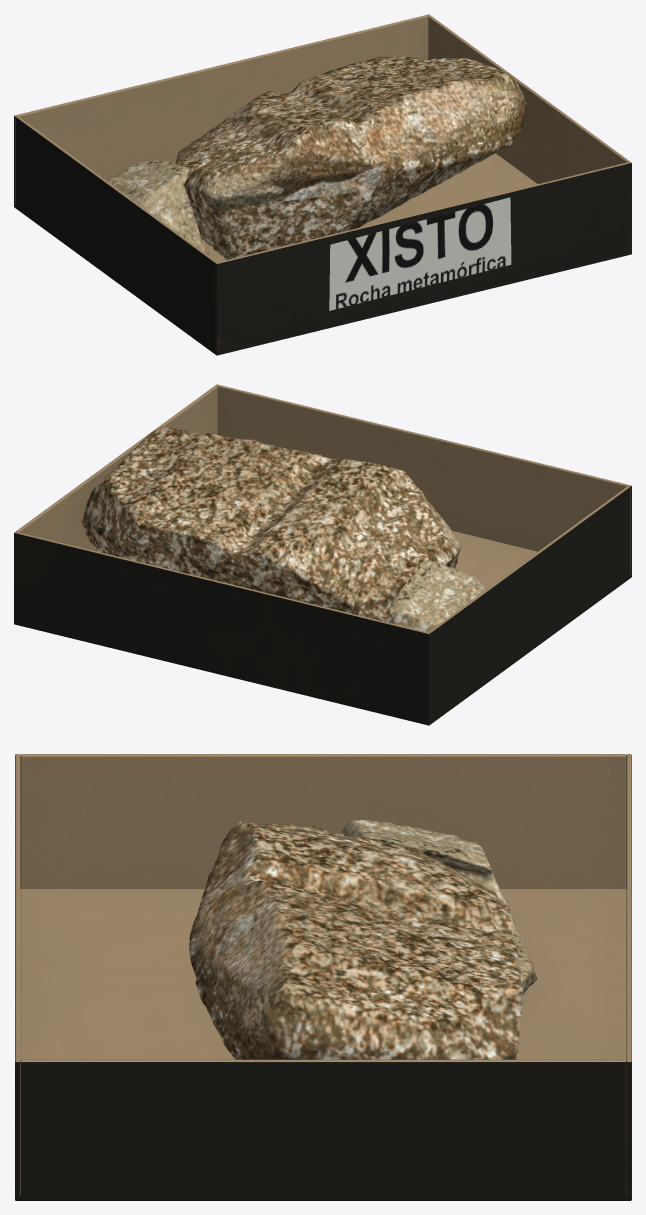
The model's file is rocha_02_17_xisto.glb.
3 views of the same model, one above another, from view 1: azimuth 30°, elevation 25°; view 2: azimuth 150°, elevation 25°; view 3: azimuth 270°, elevation 25° (orthographic). The views are drawn at different scales.
Visible parts, largest first — view 1: Fragmento_01_mo17, Bandeja_Frente_mo17, Bandeja_Fundo_mo17, Bandeja_Esquerda_mo17, Etiqueta_mo17, Bandeja_Direita_mo17, Bandeja_Base_mo17, Fragmento_02_mo17; view 2: Fragmento_01_mo17, Bandeja_Fundo_mo17, Bandeja_Frente_mo17, Bandeja_Esquerda_mo17, Bandeja_Direita_mo17, Fragmento_02_mo17, Bandeja_Base_mo17; view 3: Bandeja_Direita_mo17, Fragmento_01_mo17, Bandeja_Esquerda_mo17, Bandeja_Base_mo17, Fragmento_02_mo17, Bandeja_Fundo_mo17, Bandeja_Frente_mo17.
Boxes of the visible parts, bbox=[...] form: Fragmento_01_mo17: bbox=[175, 56, 526, 259]; Bandeja_Frente_mo17: bbox=[215, 161, 631, 355]; Bandeja_Fundo_mo17: bbox=[14, 14, 430, 204]; Bandeja_Esquerda_mo17: bbox=[16, 116, 217, 350]; Etiqueta_mo17: bbox=[329, 197, 511, 310]; Bandeja_Direita_mo17: bbox=[428, 15, 629, 183]; Bandeja_Base_mo17: bbox=[14, 153, 631, 355]; Fragmento_02_mo17: bbox=[107, 159, 208, 254]; Fragmento_01_mo17: bbox=[81, 426, 461, 622]; Bandeja_Fundo_mo17: bbox=[14, 531, 430, 725]; Bandeja_Frente_mo17: bbox=[215, 384, 631, 577]; Bandeja_Esquerda_mo17: bbox=[428, 486, 629, 720]; Bandeja_Direita_mo17: bbox=[16, 385, 217, 551]; Fragmento_02_mo17: bbox=[388, 560, 486, 631]; Bandeja_Base_mo17: bbox=[133, 531, 630, 725]; Bandeja_Direita_mo17: bbox=[20, 1059, 626, 1200]; Fragmento_01_mo17: bbox=[188, 821, 522, 1059]; Bandeja_Esquerda_mo17: bbox=[20, 754, 626, 888]; Bandeja_Base_mo17: bbox=[15, 889, 631, 1200]; Fragmento_02_mo17: bbox=[341, 819, 536, 995]; Bandeja_Fundo_mo17: bbox=[626, 754, 631, 1200]; Bandeja_Frente_mo17: bbox=[15, 754, 20, 1200].
Size of the model in its own units: 0.1959 by 0.0585 by 0.1661.
Materials: 3 (3 with a texture image).
